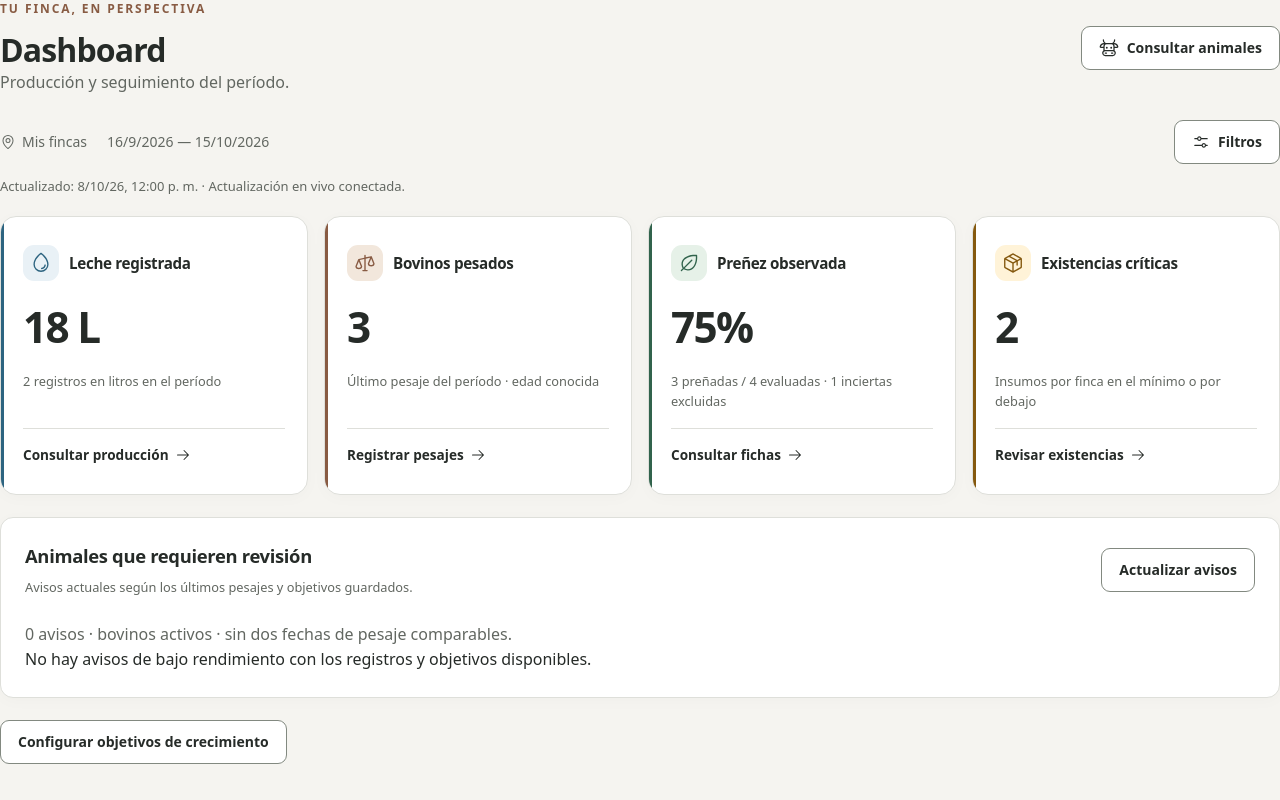
queries an entire chosen year only after applying the filter
Expected: the element "Leche registrada" is shown, x1=0 y1=216 x2=308 y2=495
Click the button "Filtros" at point(1227, 142), box x1=1174 y1=120 x2=1279 y2=164
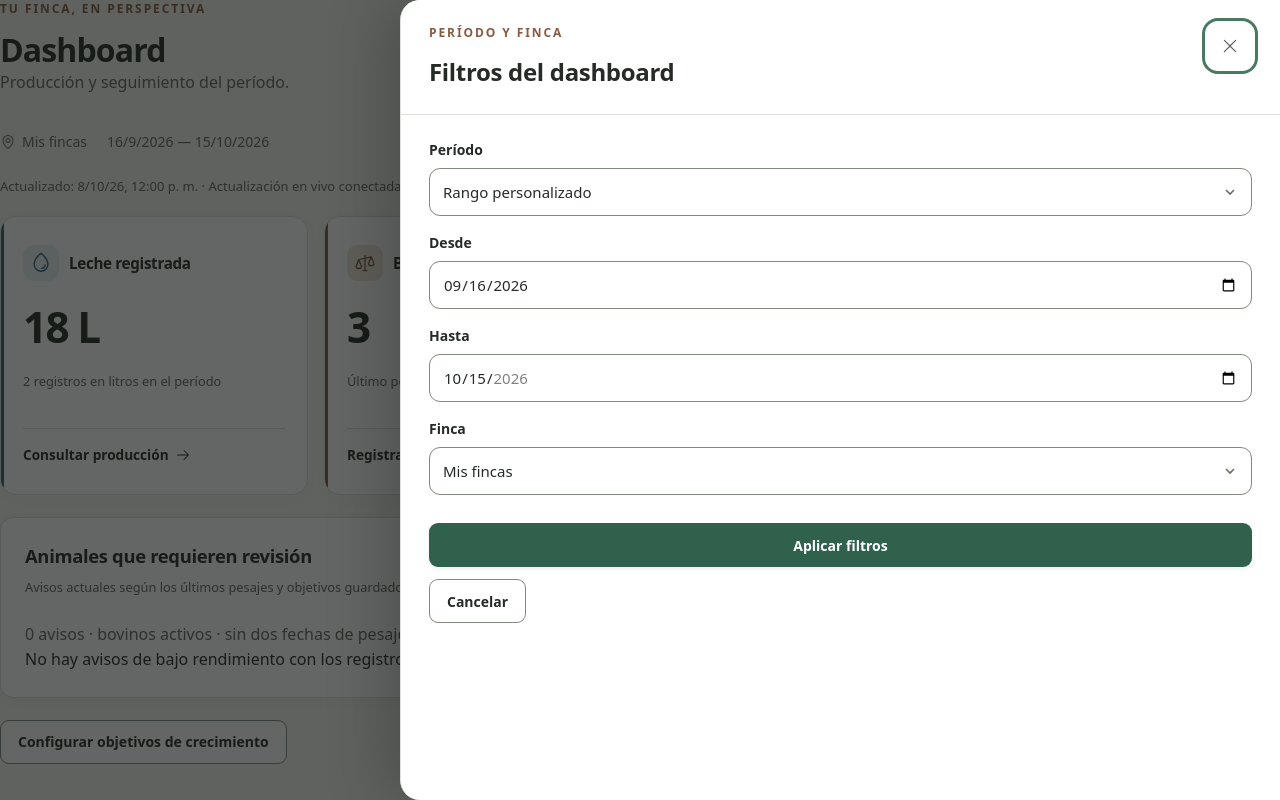
Select "Un año concreto" in the dropdown labelled "Período" at point(840, 192), box x1=429 y1=168 x2=1252 y2=216
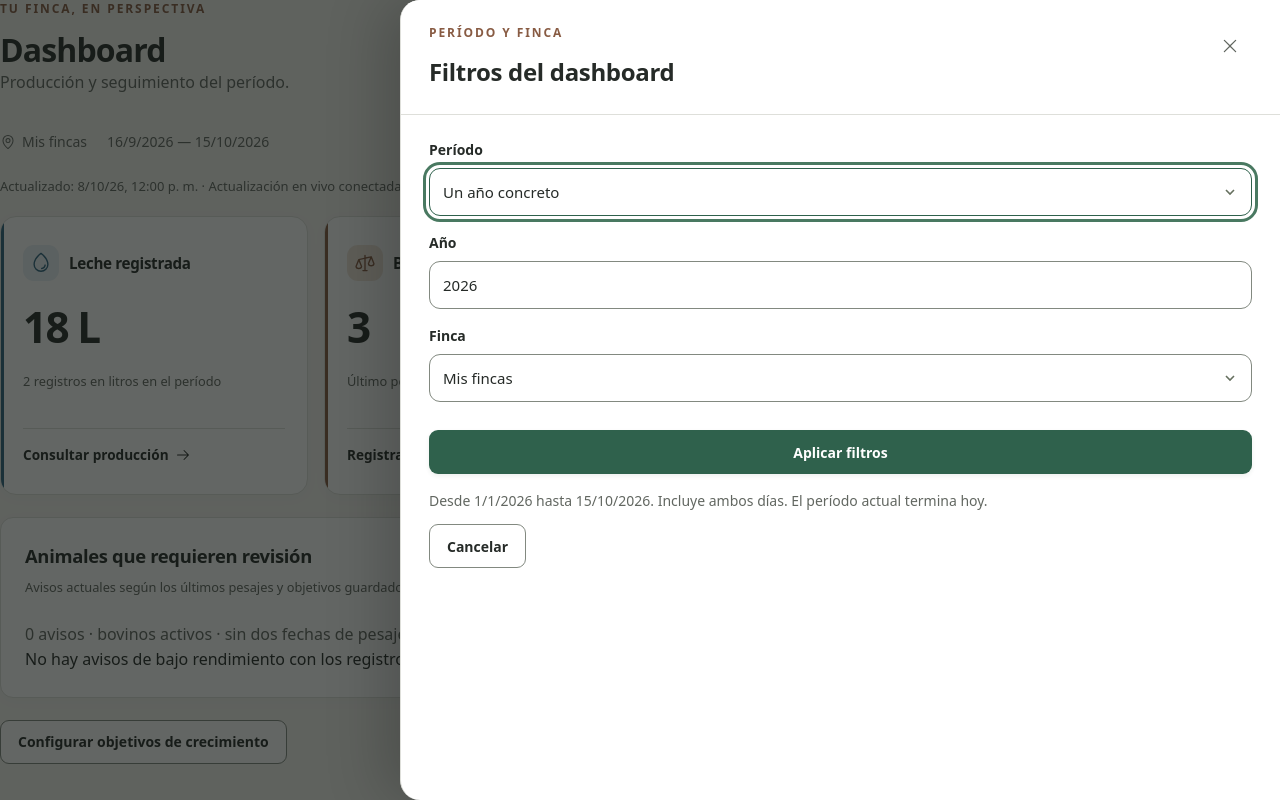
Replace the text in the number field labelled "Año" with "2025" at point(840, 285), box x1=429 y1=261 x2=1252 y2=309
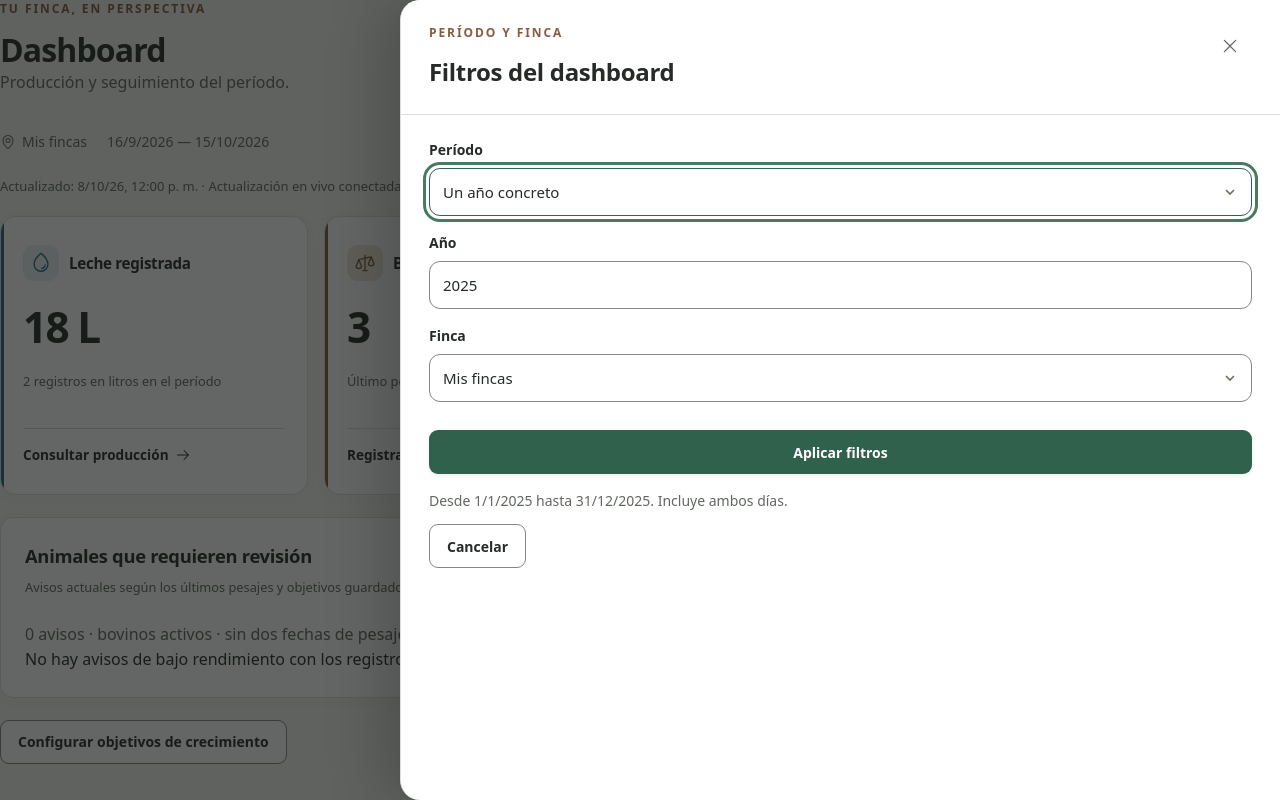
Click the button "Aplicar filtros" at point(840, 452), box x1=429 y1=430 x2=1252 y2=474
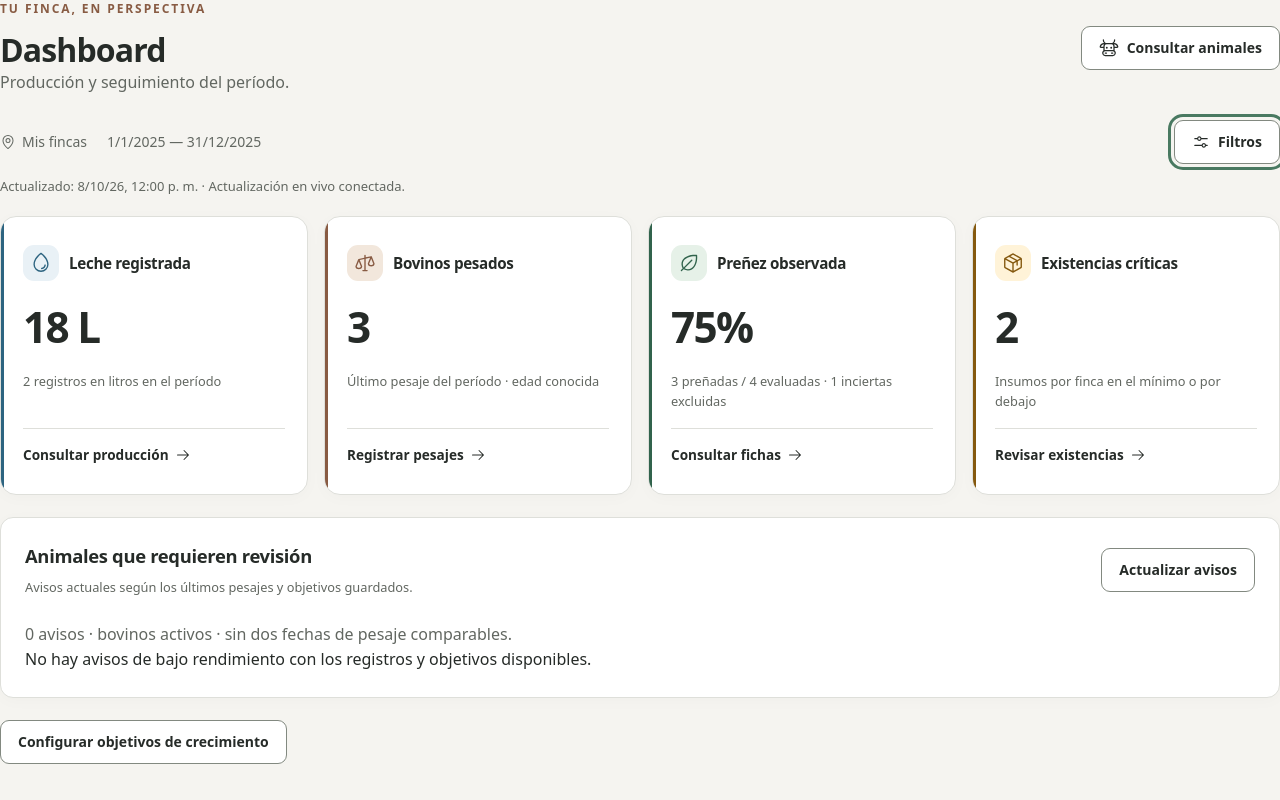
Expected: the heading "Filtros del dashboard" is gone
